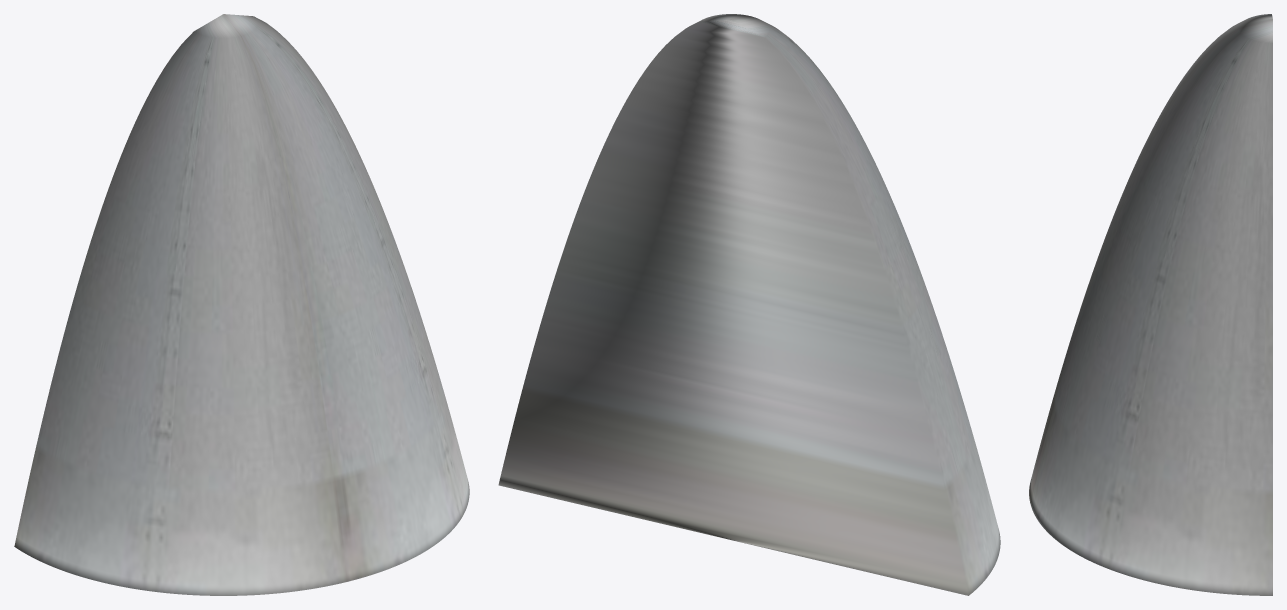
File: mainTop.obj
3 renders of one model, left to right at view 1: azimuth 30°, elevation 25°; view 2: azimuth 150°, elevation 25°; view 3: azimuth 270°, elevation 25°, orthographic. The views are drawn at different scales.
Size of the model in its own units: 2.8 by 3 by 1.4.
1 material, 1 textured.
